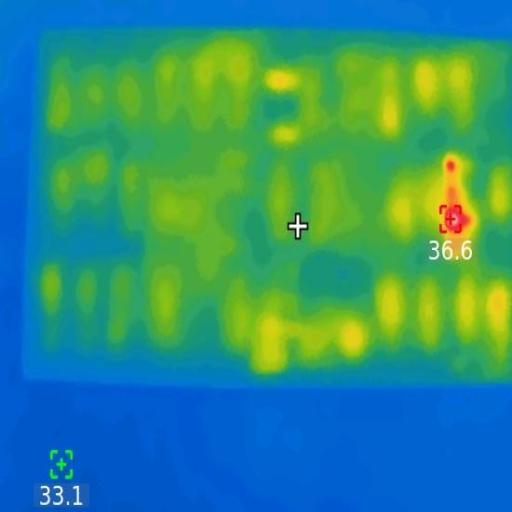hotspot: (444, 164, 468, 240)
